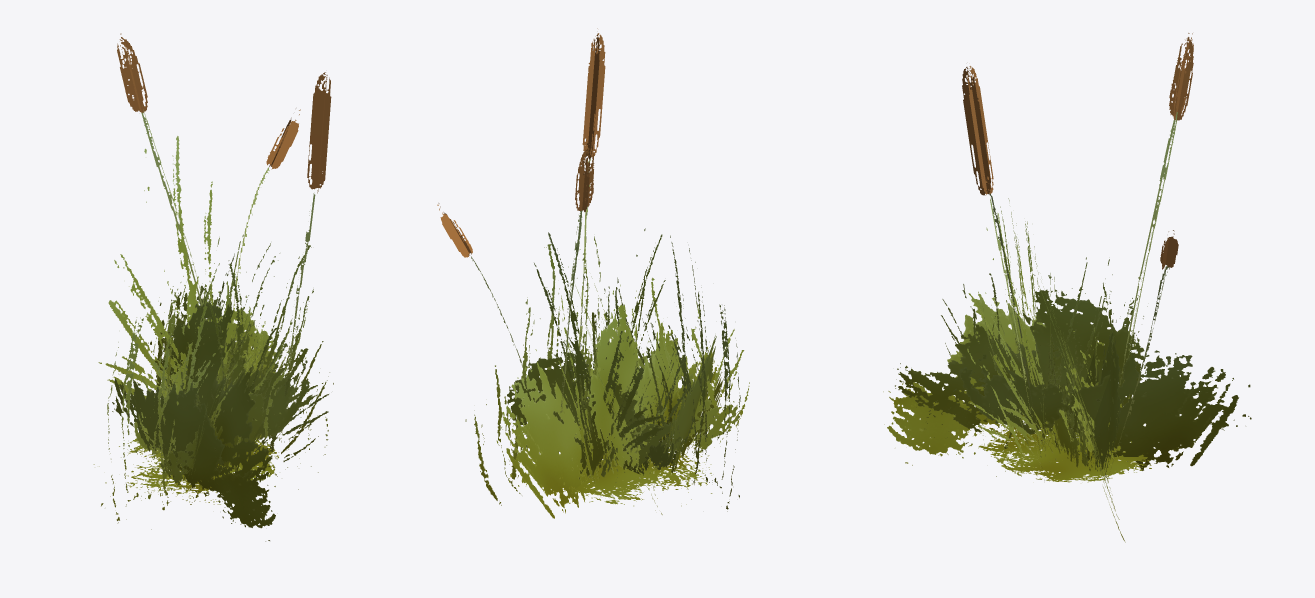
File: grass24.fbx
The picture shows the model from 3 angles, left to right: view 1: azimuth 30°, elevation 25°; view 2: azimuth 150°, elevation 25°; view 3: azimuth 270°, elevation 25°; orthographic projection. The views are drawn at different scales.
Parts seen in each view (by area): view 1: cattail1_BAKED; view 2: cattail1_BAKED; view 3: cattail1_BAKED.
Boxes of the visible parts, x1,y1,x2,y2 form: cattail1_BAKED: (93,33,333,541); cattail1_BAKED: (437,28,749,518); cattail1_BAKED: (883,33,1251,542).
Bounding box in the file's own units: 68.68 × 57.15 × 82.45.
